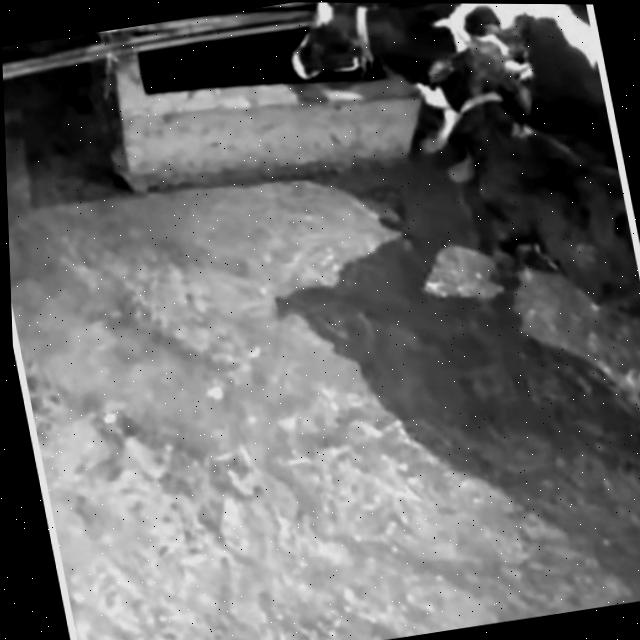drink: (260, 2, 444, 125)
